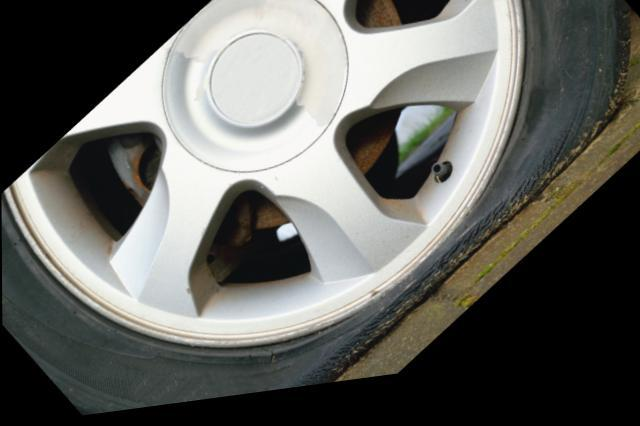tire flat: (1, 0, 630, 418)
